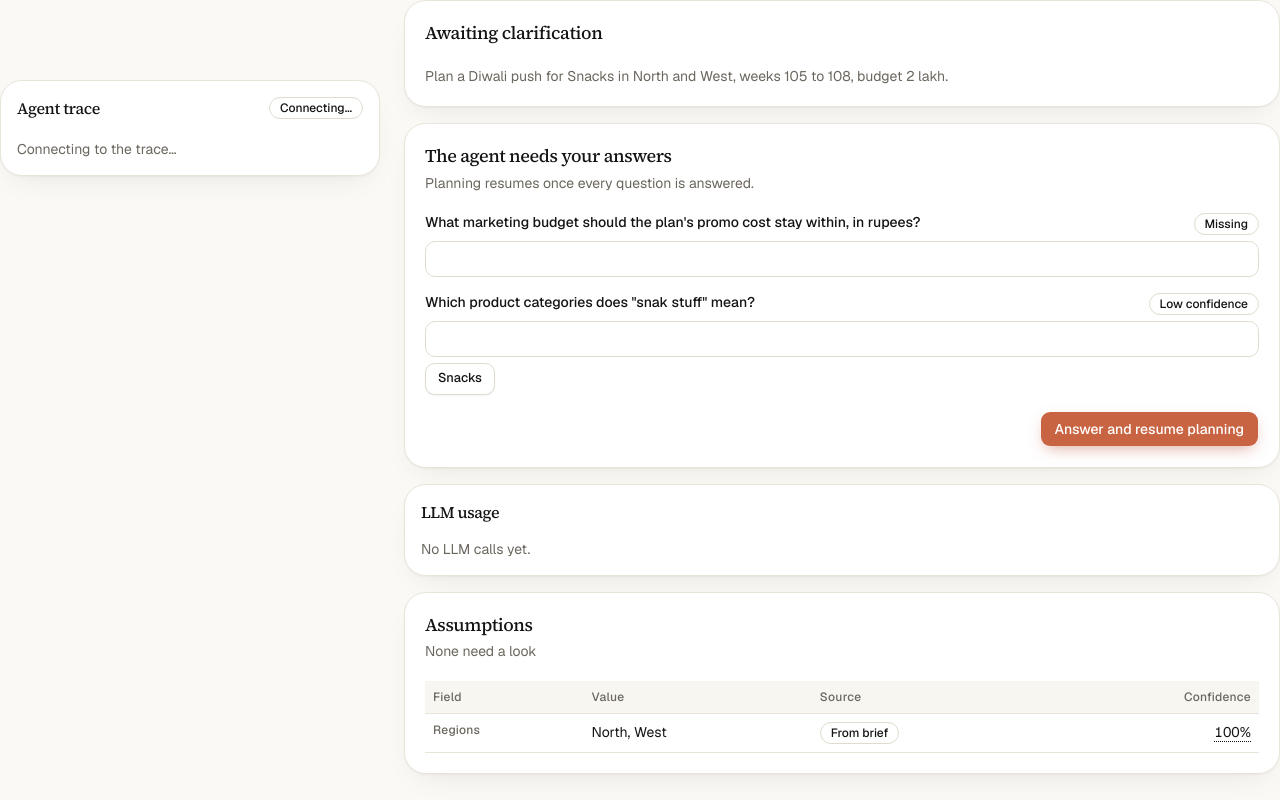
Test case: SessionView › says the questions were already answered and reloads the session
Check: the text "Awaiting clarification" is shown, box [425,20,602,45]
Type "₹2 lakh" into the field labelled "What marketing budget should the plan's promo cost stay within, in rupees?" at (842, 258), box [425,240,1259,276]
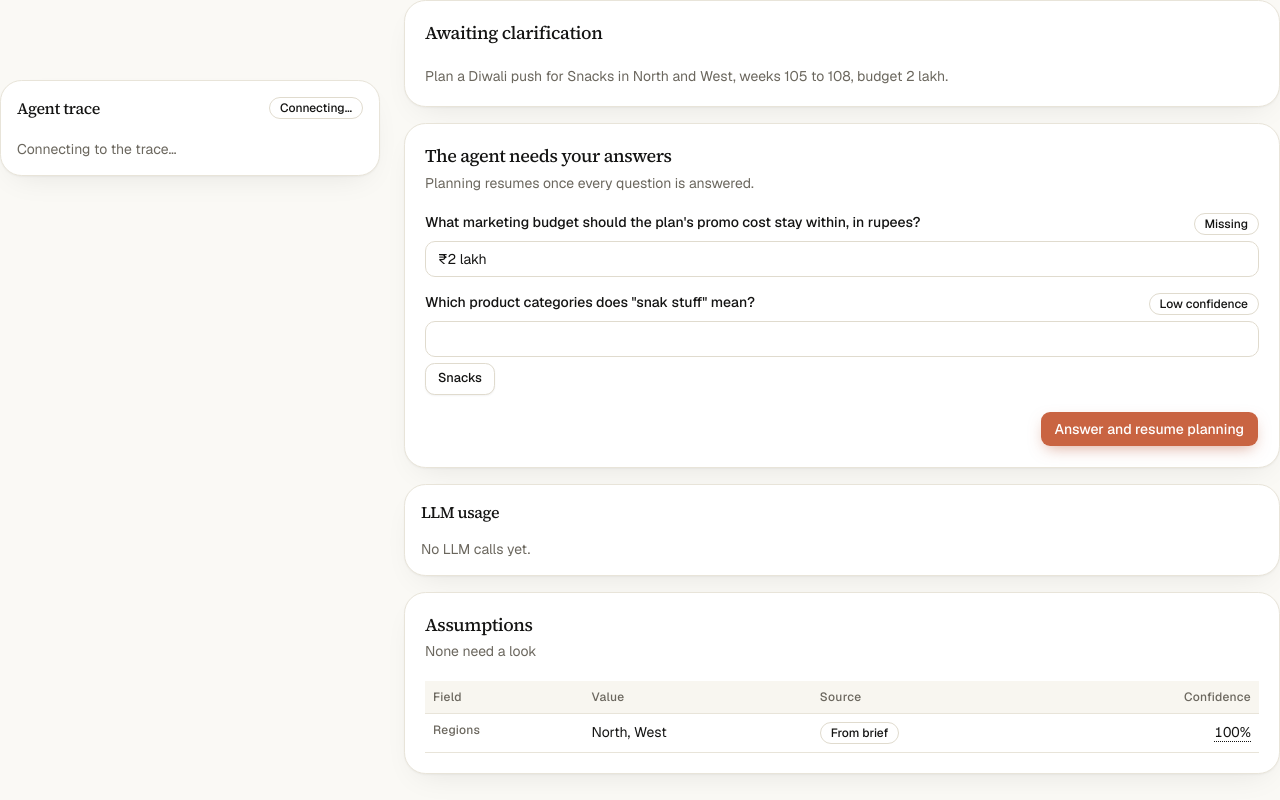
Type "Snacks" into the field labelled "Which product categories does \"snak stuff\" mean?" at (842, 338), box [425,320,1259,356]
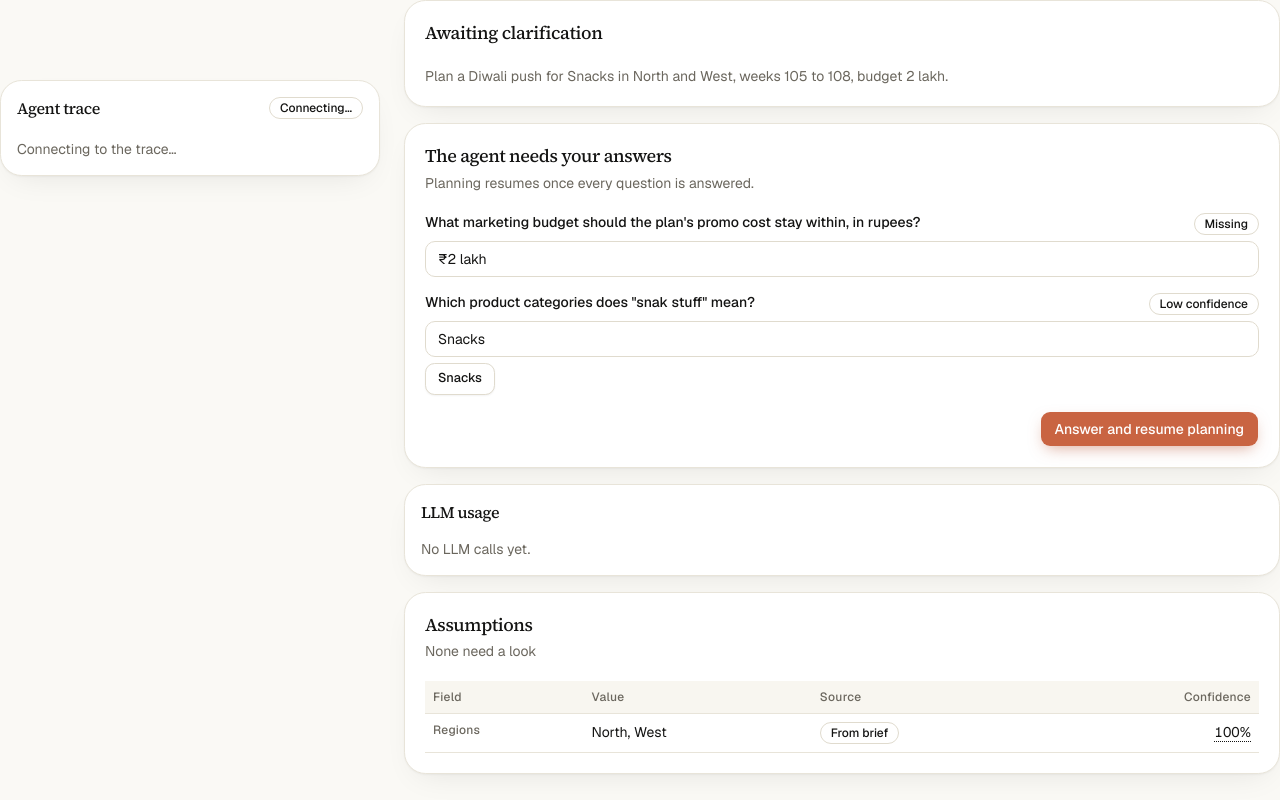
Click the button "Answer and resume planning" at (1149, 428), box [1040,410,1259,446]
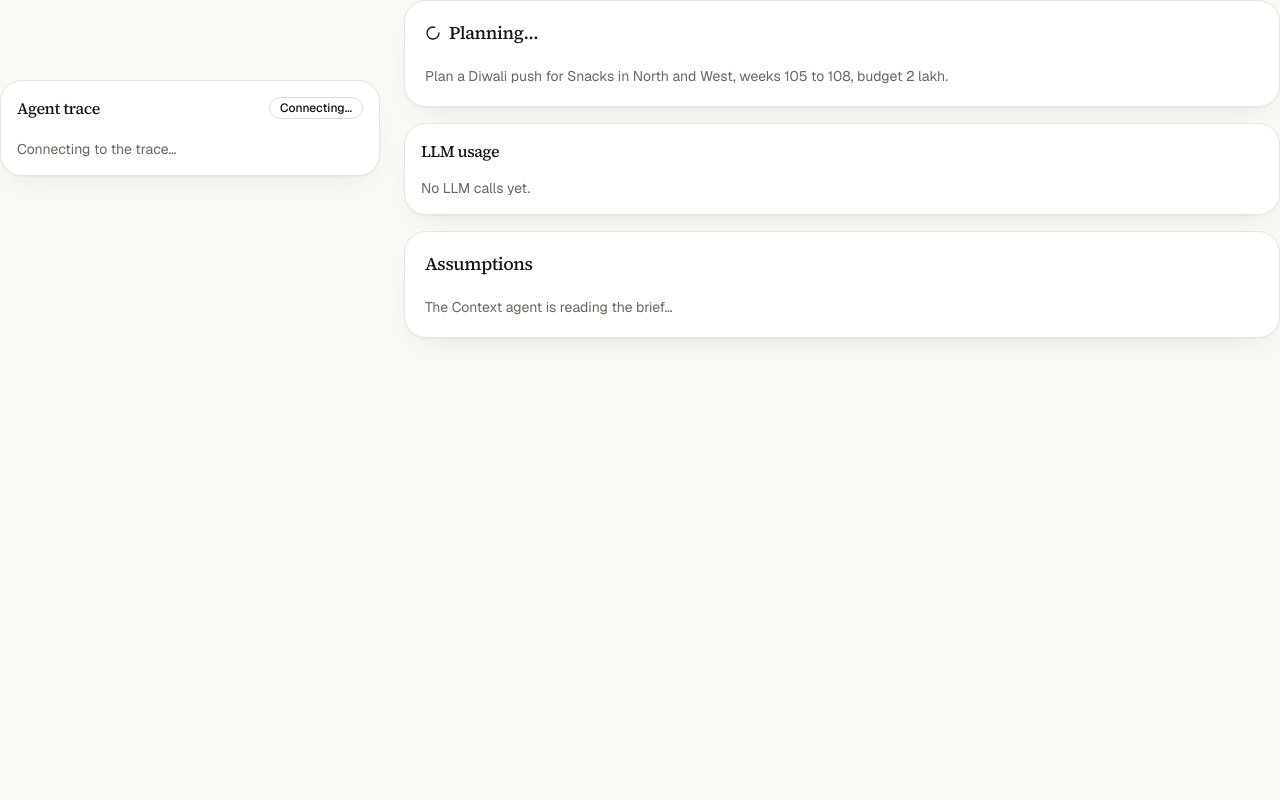
Check: the text "Planning…" is shown, box [425,20,538,45]
